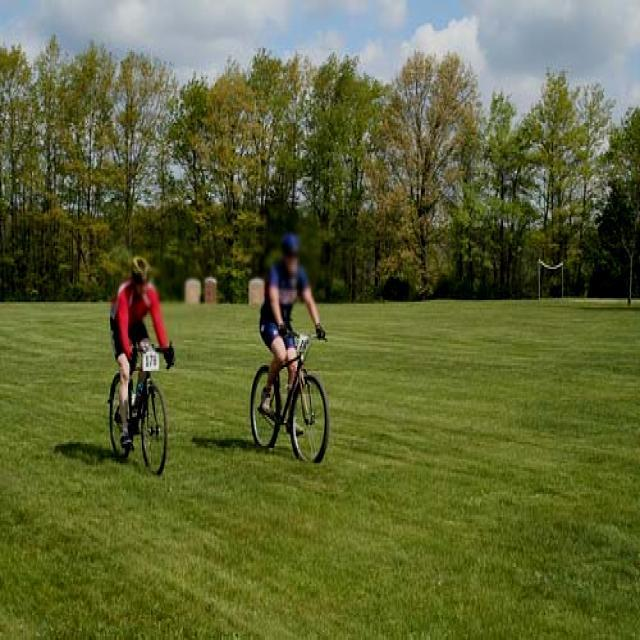bicycle: (238, 317, 336, 467), (258, 234, 323, 427), (106, 257, 174, 441), (98, 330, 178, 466)
